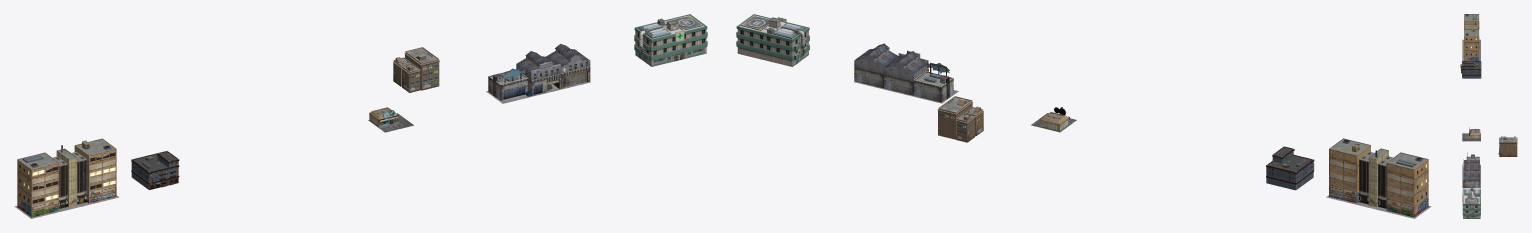
The model's file is city.glb.
3 renders of one model, left to right at view 1: azimuth 30°, elevation 25°; view 2: azimuth 150°, elevation 25°; view 3: azimuth 270°, elevation 25°, orthographic. The views are drawn at different scales.
Parts seen in each view (by area): view 1: LM_Clinic2, pasted__pCube27, Filler_Apartments2, pasted__pCube20, pasted__pCube1 (×2), pasted__pCube19, pasted__polySurface17, pasted__pCube28, pasted__pCube18, LMProjects2_pasted__group65_pasted__pCube40, Filler_SalsT8_group8_pCube11, pasted__pCube26 (+1 smaller); view 2: LM_Clinic2, pasted__pCube27, pasted__pCube20, Filler_Apartments2, pasted__pCube1 (×2), pasted__pCube3, pasted__pCube2, pasted__pCube19, Filler_SalsT8_group8_pCube11, pasted__pCube28, pasted__pCube18, pasted__pCube26 (+4 smaller); view 3: LM_Clinic2, pasted__pCube20, Filler_Apartments2, Filler_SalsT8_group8_pCube11, pasted__pCube2, pasted__pCube27, pasted__polySurface6 (×2), pasted__pCube1 (×2), polySurface139, pasted__BD_Block86, pasted__polySurface17, LM_Laundrette_pasted__pCube65 (+2 smaller).
Boxes of the visible parts, x1,y1,x2,y2 form: LM_Clinic2: (634, 14, 707, 66); pasted__pCube27: (17, 152, 59, 206); Filler_Apartments2: (131, 150, 179, 189); pasted__pCube20: (74, 138, 116, 192); pasted__pCube1 (×2): (87, 72, 528, 203); pasted__pCube19: (56, 148, 77, 207); pasted__polySurface17: (546, 49, 590, 73); pasted__pCube28: (17, 196, 59, 217); pasted__pCube18: (71, 152, 86, 204); LMProjects2_pasted__group65_pasted__pCube40: (19, 152, 115, 203); Filler_SalsT8_group8_pCube11: (405, 54, 439, 90); pasted__pCube26: (53, 156, 67, 208); LM_Clinic2: (736, 14, 809, 66); pasted__pCube27: (1386, 152, 1428, 206); pasted__pCube20: (1329, 138, 1370, 192); Filler_Apartments2: (1266, 146, 1314, 190); pasted__pCube1 (×2): (913, 71, 1358, 203); pasted__pCube3: (884, 65, 928, 95); pasted__pCube2: (854, 60, 883, 88); pasted__pCube19: (1368, 148, 1388, 207); Filler_SalsT8_group8_pCube11: (938, 103, 972, 139); pasted__pCube28: (1386, 196, 1428, 217); pasted__pCube18: (1359, 151, 1373, 204); pasted__pCube26: (1377, 156, 1392, 208); LM_Clinic2: (1462, 187, 1480, 218); pasted__pCube20: (1464, 29, 1479, 56); Filler_Apartments2: (1460, 61, 1481, 78); Filler_SalsT8_group8_pCube11: (1499, 143, 1517, 156); pasted__pCube2: (1463, 176, 1479, 188); pasted__pCube27: (1464, 14, 1479, 29); pasted__polySurface6 (×2): (1463, 160, 1479, 170); pasted__pCube1 (×2): (1464, 56, 1479, 159); polySurface139: (1499, 137, 1517, 143); pasted__BD_Block86: (1462, 133, 1480, 141); pasted__polySurface17: (1463, 171, 1479, 176); LM_Laundrette_pasted__pCube65: (1469, 129, 1480, 138).
Size of the model in its own units: 41420 by 3166 by 5580.
Materials: 9 (9 with a texture image).
